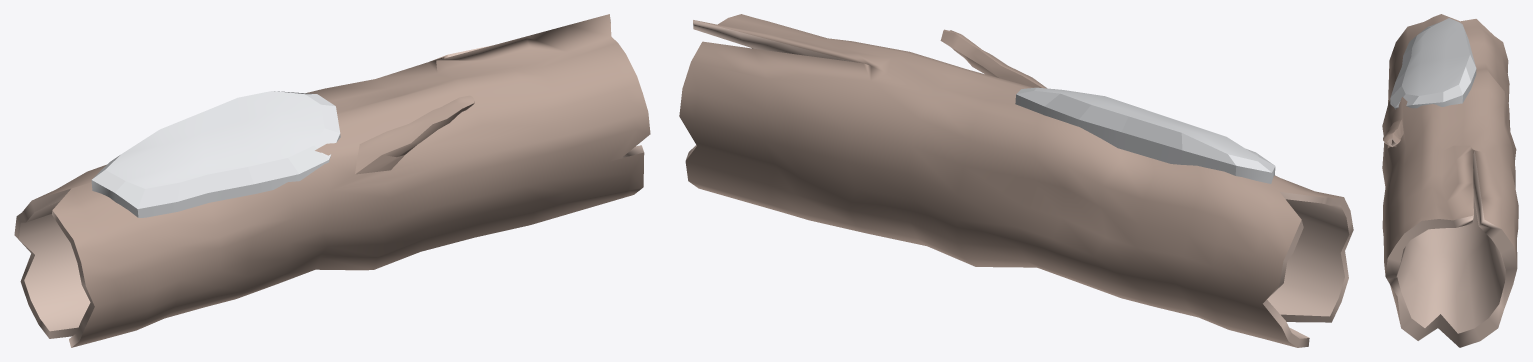
Rendered from Mountain_boomstronk.fbx.
The picture shows the model from 3 angles, left to right: view 1: azimuth 30°, elevation 25°; view 2: azimuth 150°, elevation 25°; view 3: azimuth 270°, elevation 25°; orthographic projection. The views are drawn at different scales.
Visible parts, largest first — view 1: polySurface855; view 2: polySurface855; view 3: polySurface855.
Part boxes in pixels (x1,y1,x2,y2): polySurface855: (14, 14, 650, 347); polySurface855: (679, 14, 1353, 347); polySurface855: (1382, 14, 1518, 347).
Bounding box in the file's own units: 5.61 × 1.75 × 1.37.
